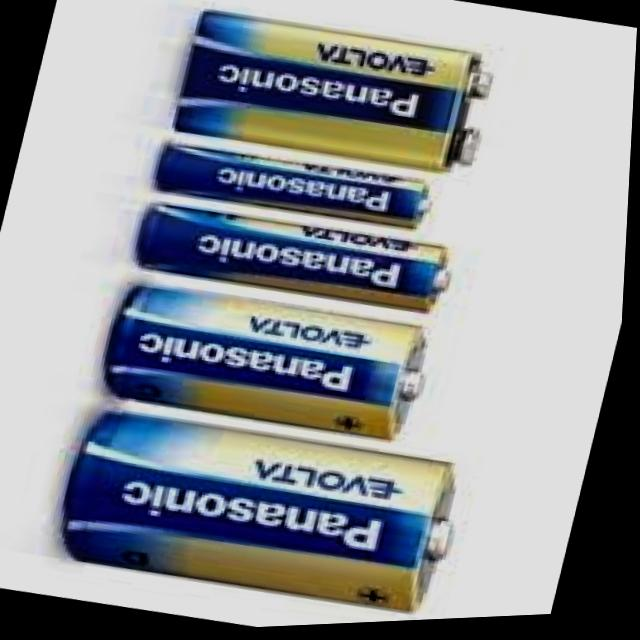B3: (32, 383, 494, 638), (98, 271, 448, 461), (122, 180, 471, 342), (143, 126, 448, 251)
